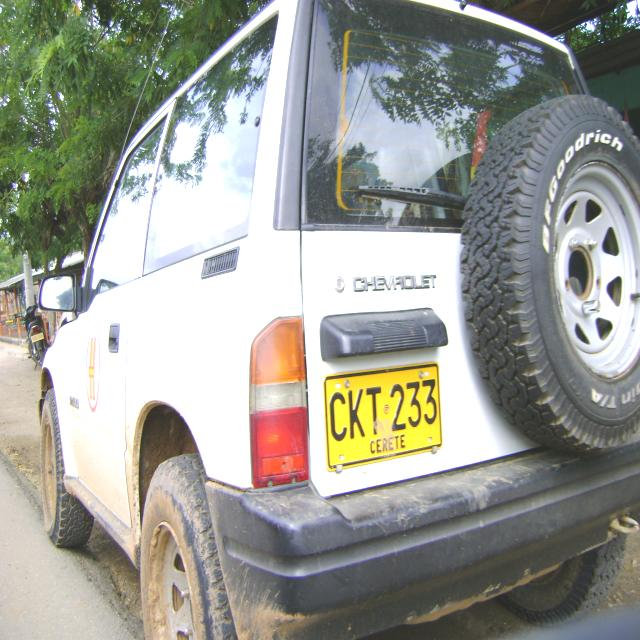particular: (318, 362, 445, 476)
